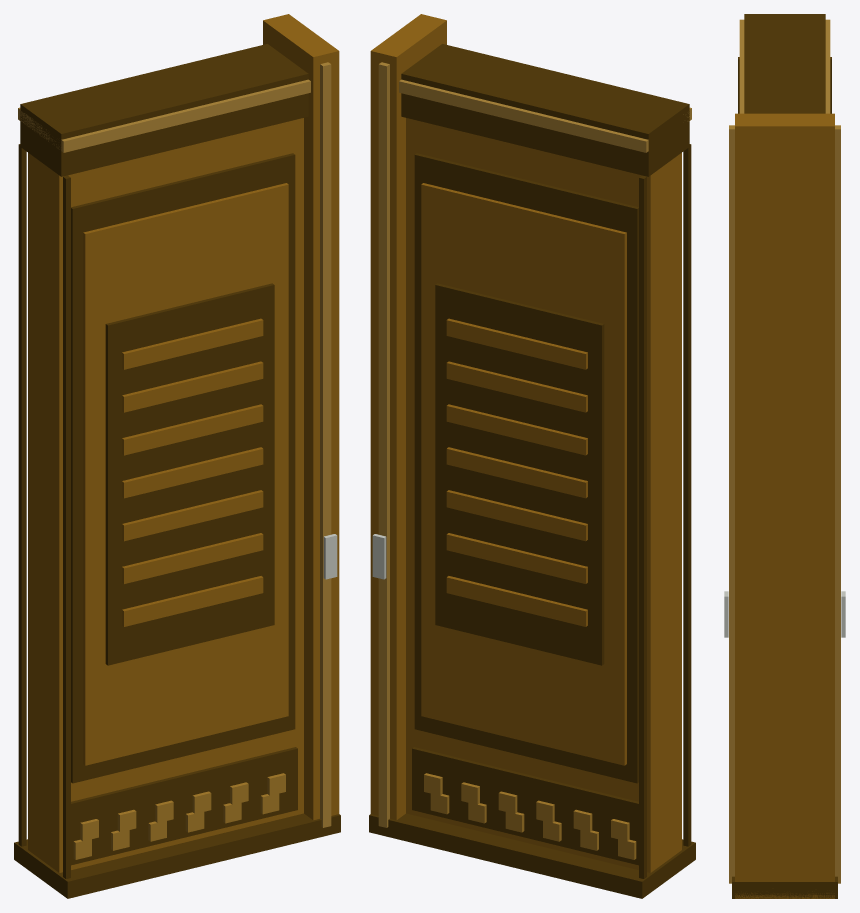
The model's file is CMU3DPairedEngineerSolid.glb.
3 renders of one model, left to right at view 1: azimuth 30°, elevation 25°; view 2: azimuth 150°, elevation 25°; view 3: azimuth 270°, elevation 25°, orthographic.
Visible parts, largest first — view 1: inner face panel, single closed door leaf, large recessed solid panel, outer door jamb, leaf recessed face, continuous top track, solid panel narrow louvers (×7), meeting edge seal (×2), lower hazard band, outer jamb highlight, threshold, top track lip (+1 smaller); view 2: inner face panel back, single closed door leaf, large recessed solid panel back, outer door jamb, leaf recessed face back, continuous top track, solid panel narrow louvers back (×7), meeting edge seal (×2), lower hazard band back, outer jamb highlight, threshold, top track lip (+1 smaller); view 3: outer door jamb, outer jamb highlight (×2), continuous top track, threshold, top track lip.
Boxes of the visible parts, x1=… form: inner face panel: x1=83, y1=183, x2=288, y2=765; single closed door leaf: x1=28, y1=118, x2=303, y2=872; large recessed solid panel: x1=105, y1=283, x2=274, y2=665; outer door jamb: x1=263, y1=14, x2=339, y2=820; leaf recessed face: x1=71, y1=153, x2=295, y2=783; continuous top track: x1=20, y1=44, x2=308, y2=176; solid panel narrow louvers (×7): x1=122, y1=318, x2=263, y2=626; meeting edge seal (×2): x1=18, y1=144, x2=70, y2=878; lower hazard band: x1=71, y1=747, x2=297, y2=865; outer jamb highlight: x1=320, y1=62, x2=331, y2=827; threshold: x1=14, y1=813, x2=340, y2=898; top track lip: x1=18, y1=79, x2=310, y2=152; inner face panel back: x1=421, y1=183, x2=626, y2=765; single closed door leaf: x1=406, y1=118, x2=681, y2=872; large recessed solid panel back: x1=435, y1=283, x2=604, y2=665; outer door jamb: x1=370, y1=14, x2=446, y2=820; leaf recessed face back: x1=414, y1=153, x2=638, y2=783; continuous top track: x1=401, y1=44, x2=689, y2=176; solid panel narrow louvers back (×7): x1=446, y1=318, x2=587, y2=626; meeting edge seal (×2): x1=639, y1=144, x2=691, y2=878; lower hazard band back: x1=412, y1=747, x2=638, y2=865; outer jamb highlight: x1=378, y1=62, x2=389, y2=827; threshold: x1=369, y1=813, x2=695, y2=898; top track lip: x1=399, y1=79, x2=691, y2=152; outer door jamb: x1=735, y1=113, x2=834, y2=898; outer jamb highlight (×2): x1=729, y1=125, x2=840, y2=883; continuous top track: x1=744, y1=14, x2=825, y2=113; threshold: x1=732, y1=876, x2=837, y2=898; top track lip: x1=739, y1=19, x2=830, y2=113.
Size of the model in its own units: 1 by 2.73 by 0.388.
